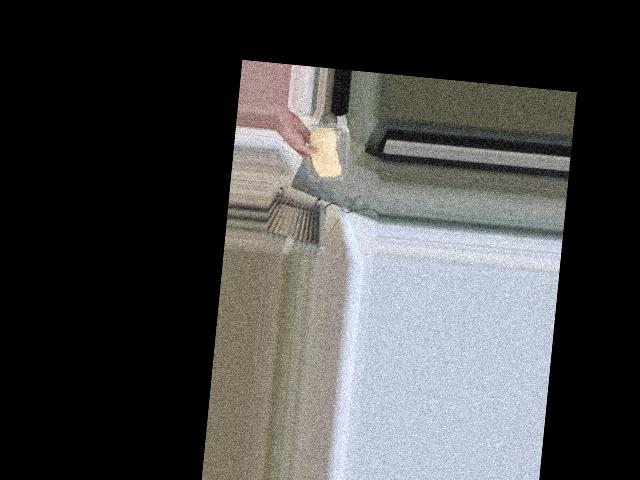cheese: (300, 121, 350, 186)
